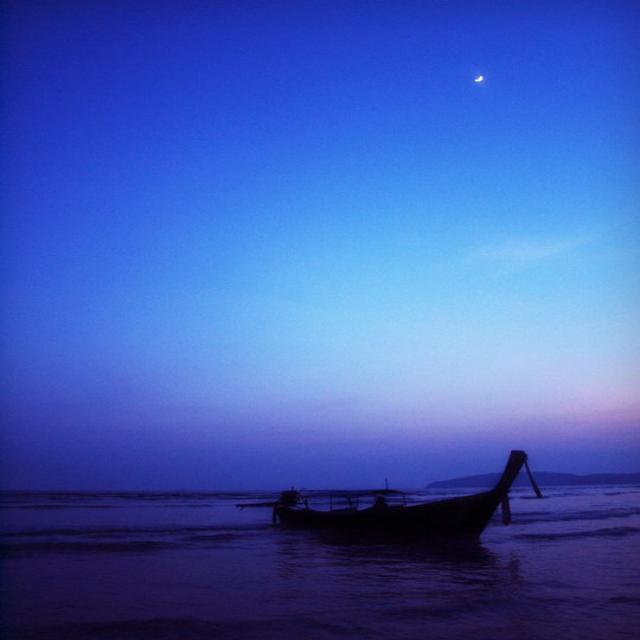Boat: (241, 441, 542, 554)
